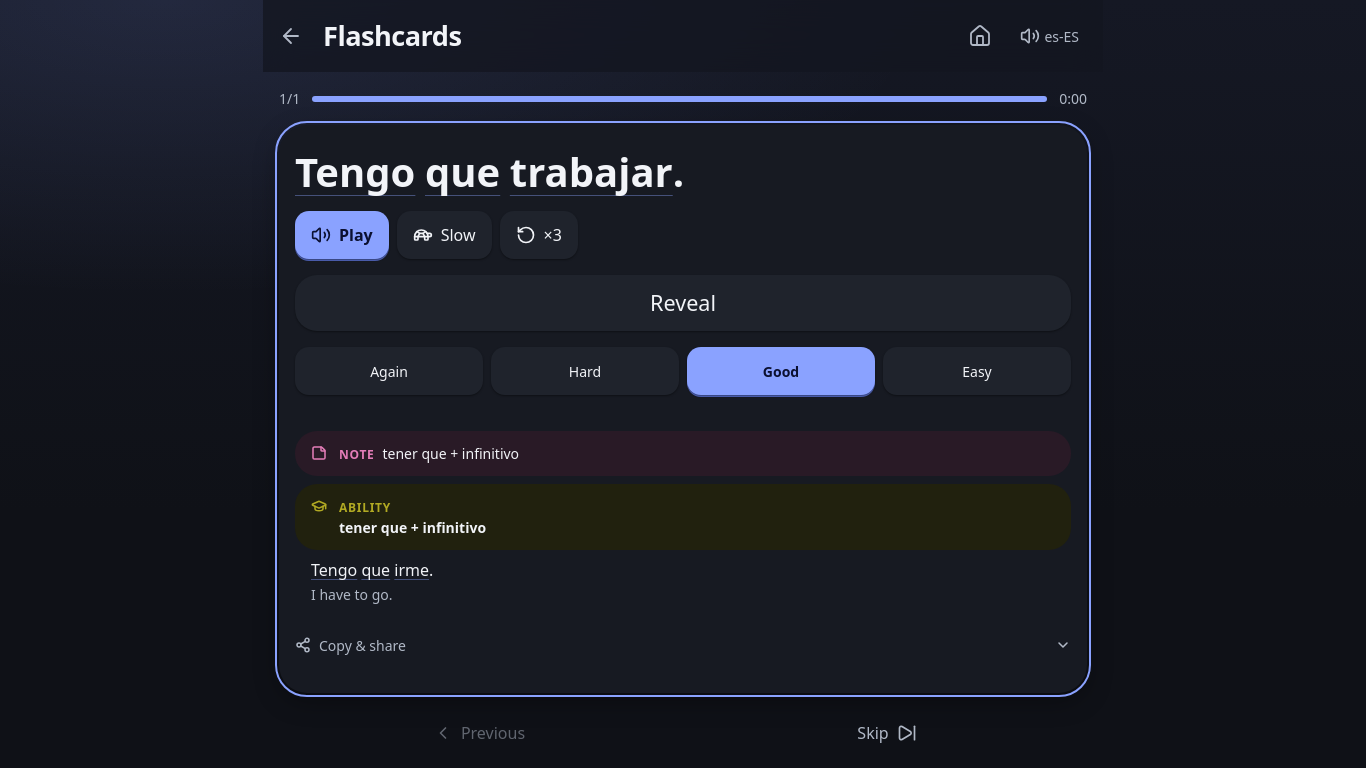
a finished session › says nothing about progress after a study session
The image size is (1366, 768).
Expected: the text "1/1" is shown, [279, 88, 300, 109]
Click the button "Reveal" at (683, 303), box [295, 275, 1071, 331]
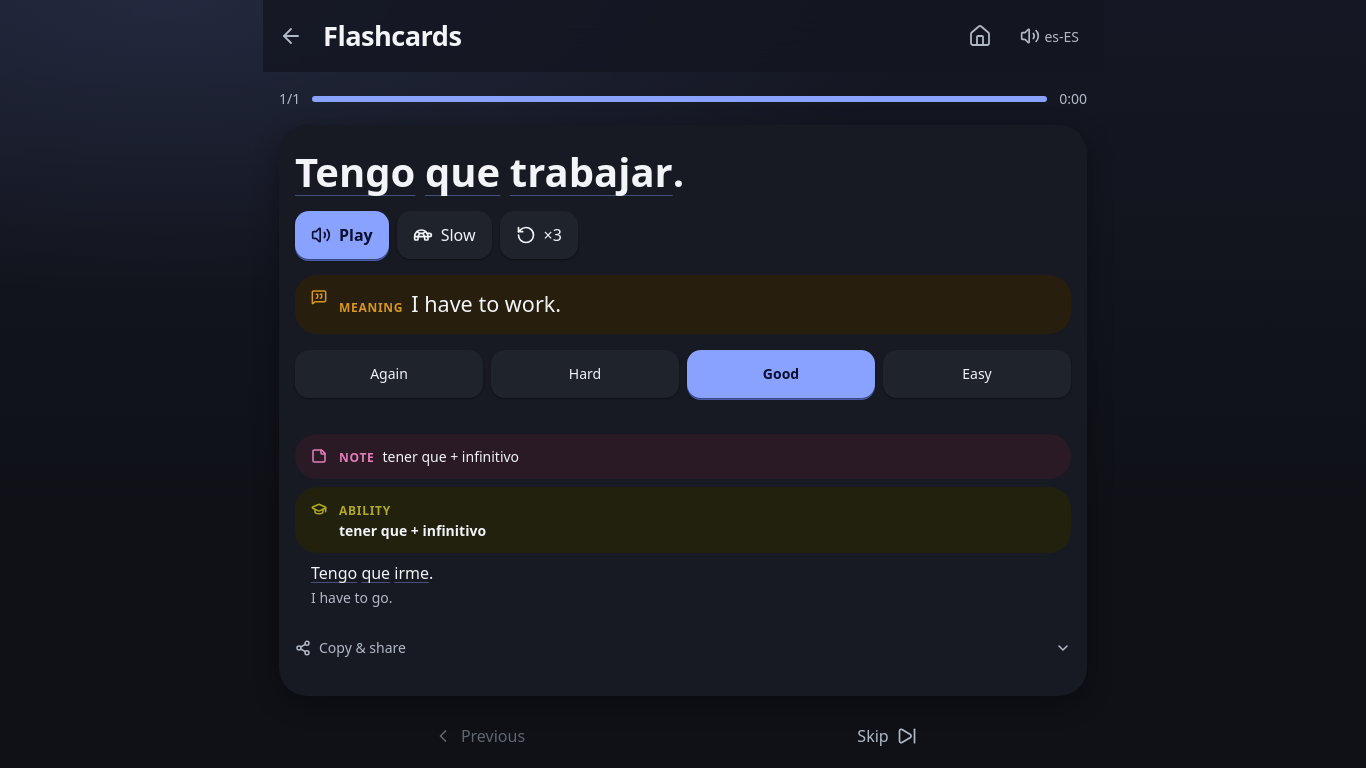
Click the button "Good" at (781, 374), box [687, 350, 875, 398]
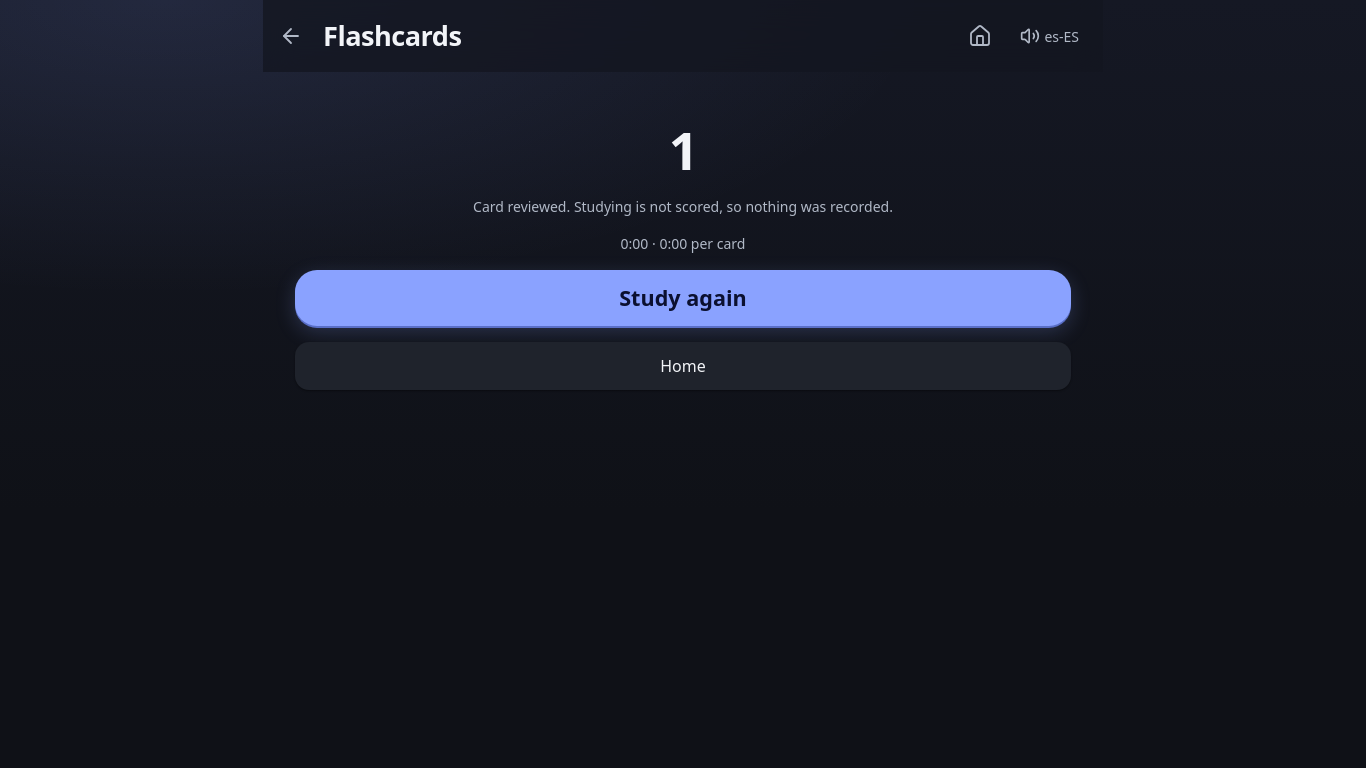
Expected: the text "nothing was recorded" is shown, [473, 197, 893, 216]
